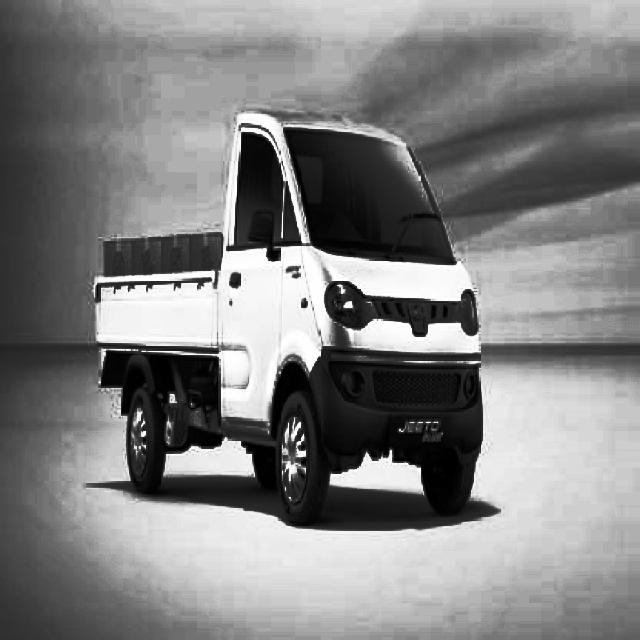LCV: (95, 132, 468, 500)
